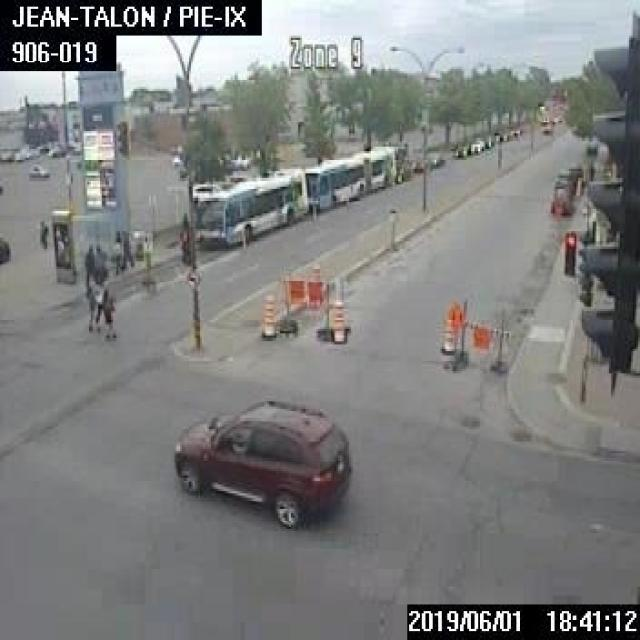bus: (193, 166, 306, 246), (303, 144, 394, 212)
construction: (275, 264, 348, 338), (442, 298, 509, 373), (329, 298, 345, 341), (438, 311, 454, 352), (260, 292, 274, 338)
pedestrian: (100, 288, 116, 338), (86, 284, 100, 329), (92, 241, 106, 284), (120, 228, 132, 267), (36, 215, 48, 249), (84, 243, 93, 286), (112, 230, 120, 271)
vehicle: (173, 396, 350, 525), (550, 188, 569, 212), (552, 169, 572, 191), (422, 149, 442, 164), (567, 163, 582, 182), (27, 162, 47, 176), (450, 141, 468, 156), (0, 234, 9, 262), (411, 157, 427, 171), (468, 137, 483, 151), (481, 132, 493, 146)
